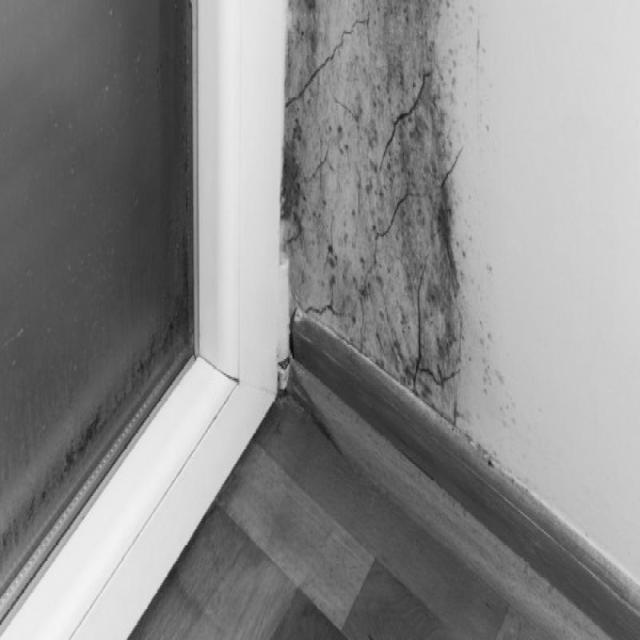stain marks: (248, 0, 561, 485)
